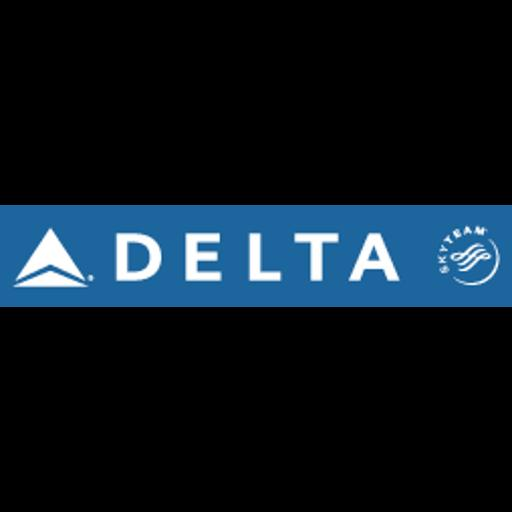Delta Air Lines: (0, 205, 512, 307)
